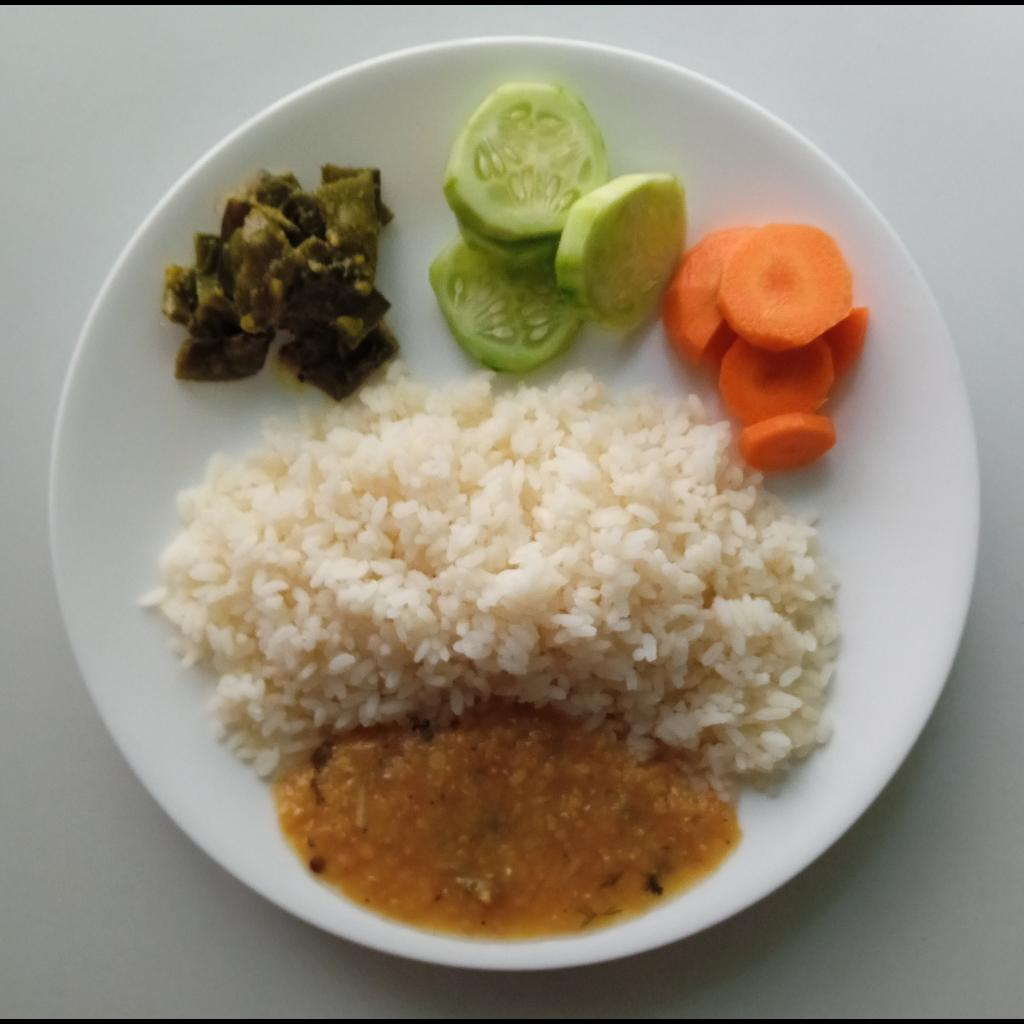carrot: (664, 225, 869, 471)
cucumber: (430, 82, 688, 374)
daal: (271, 700, 743, 939)
rice: (135, 365, 840, 800)
shim: (160, 165, 401, 401)
